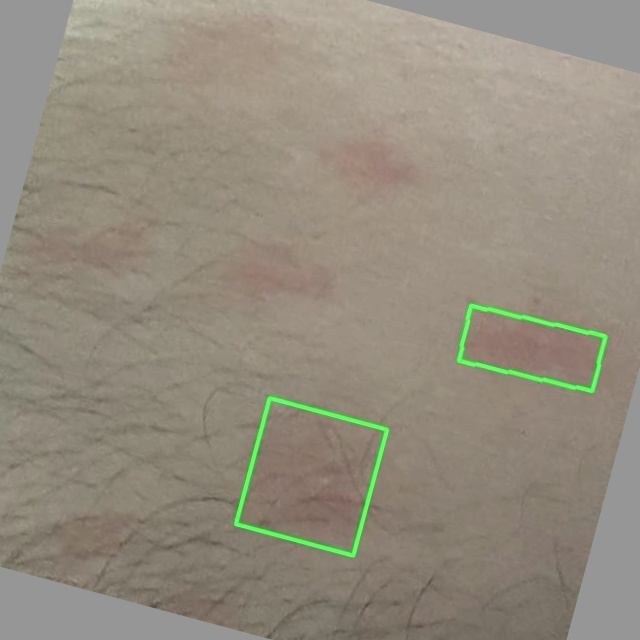Tinea Corporis: (235, 398, 387, 555), (458, 304, 605, 391)
